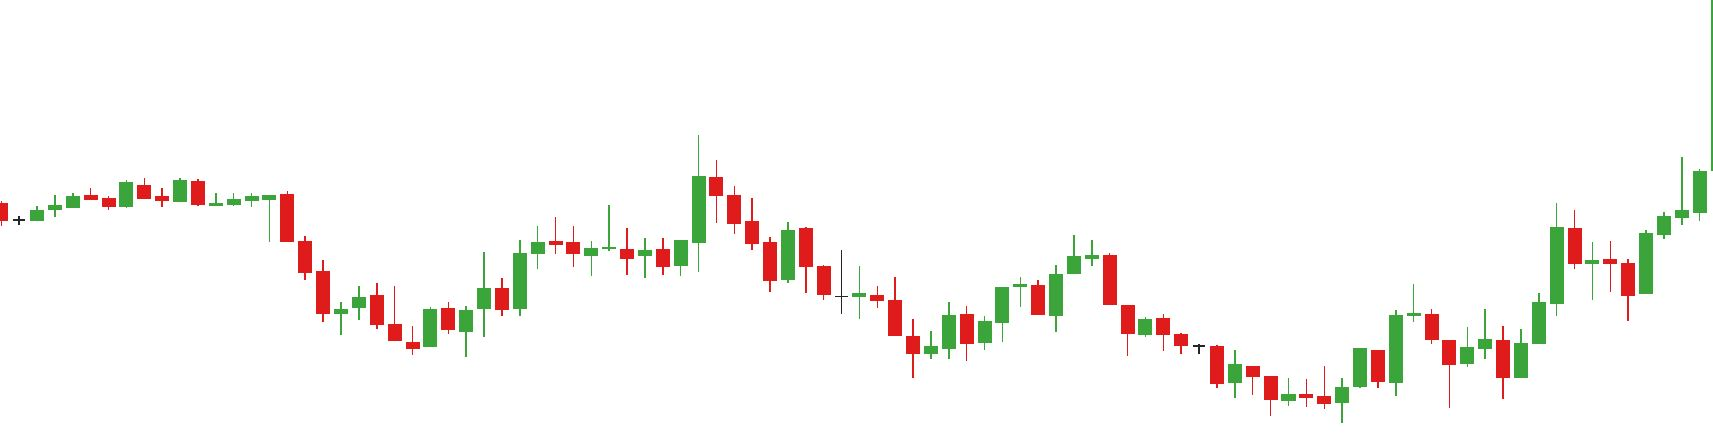sell: (600, 131, 742, 247)
